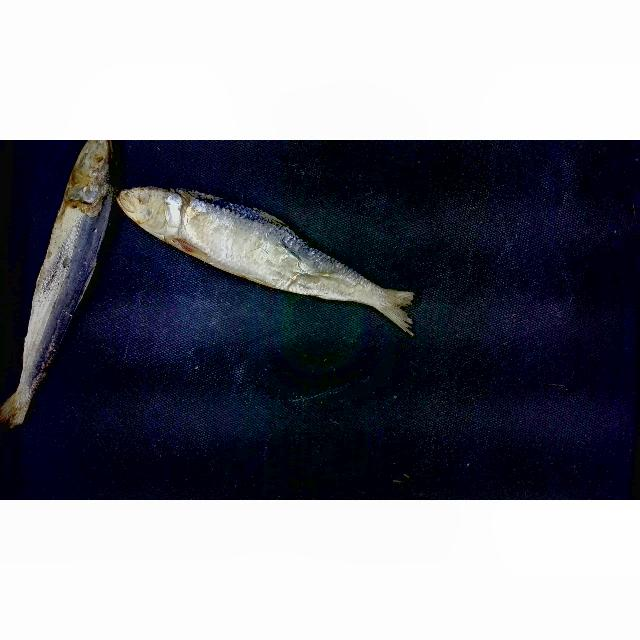Grade_A_Body: (193, 185, 319, 311), (19, 214, 112, 362)
Grade_A_Head: (57, 143, 138, 211), (125, 180, 186, 249)
Grade_A_Tail: (330, 242, 441, 358), (3, 348, 74, 456)
